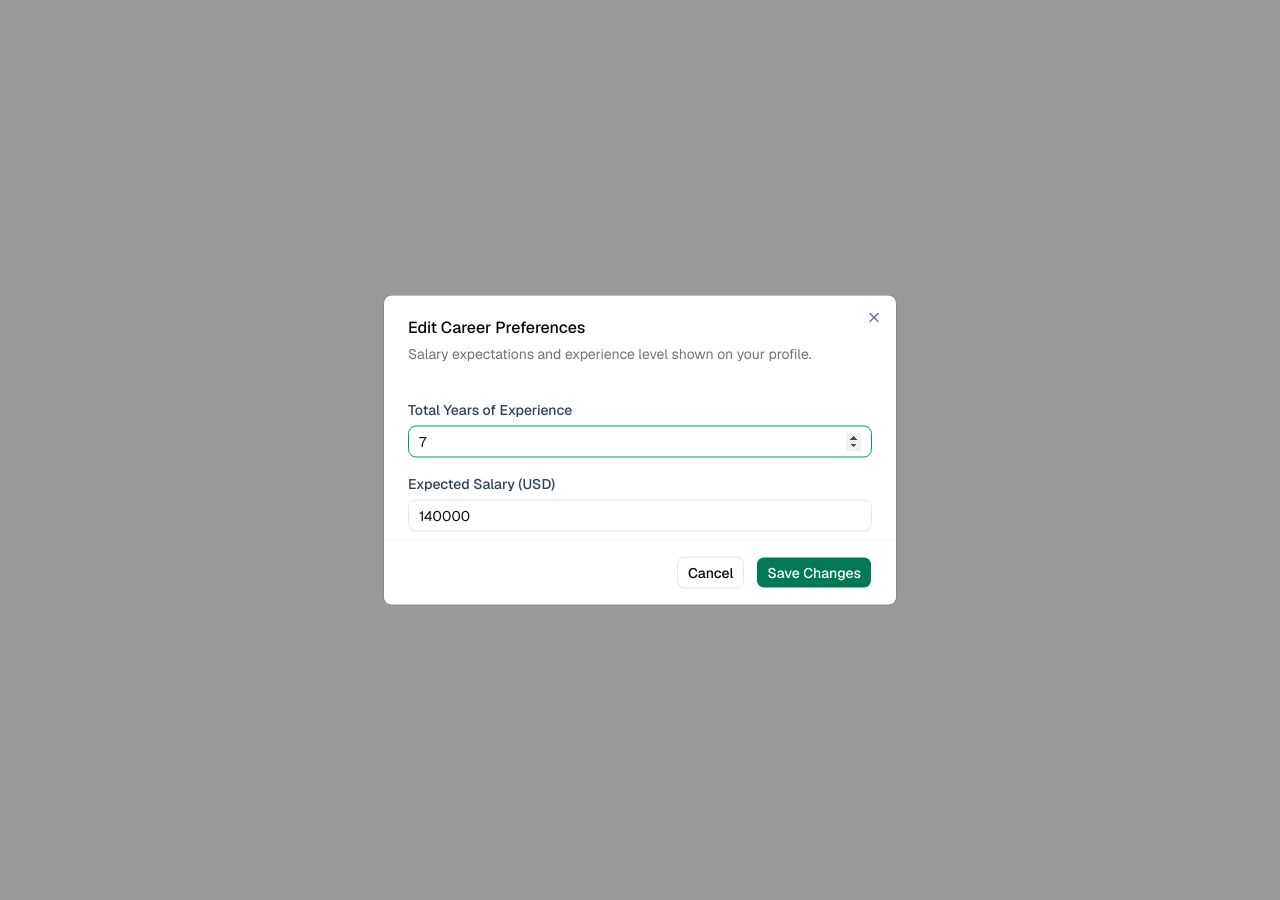
EditCareerPreferencesDialog › prevents entering negative values
The width and height of the screenshot is (1280, 900).
Replace the text in the number field labelled "Total Years of Experience" with "-5" at (640, 442), box [408,426,872,458]
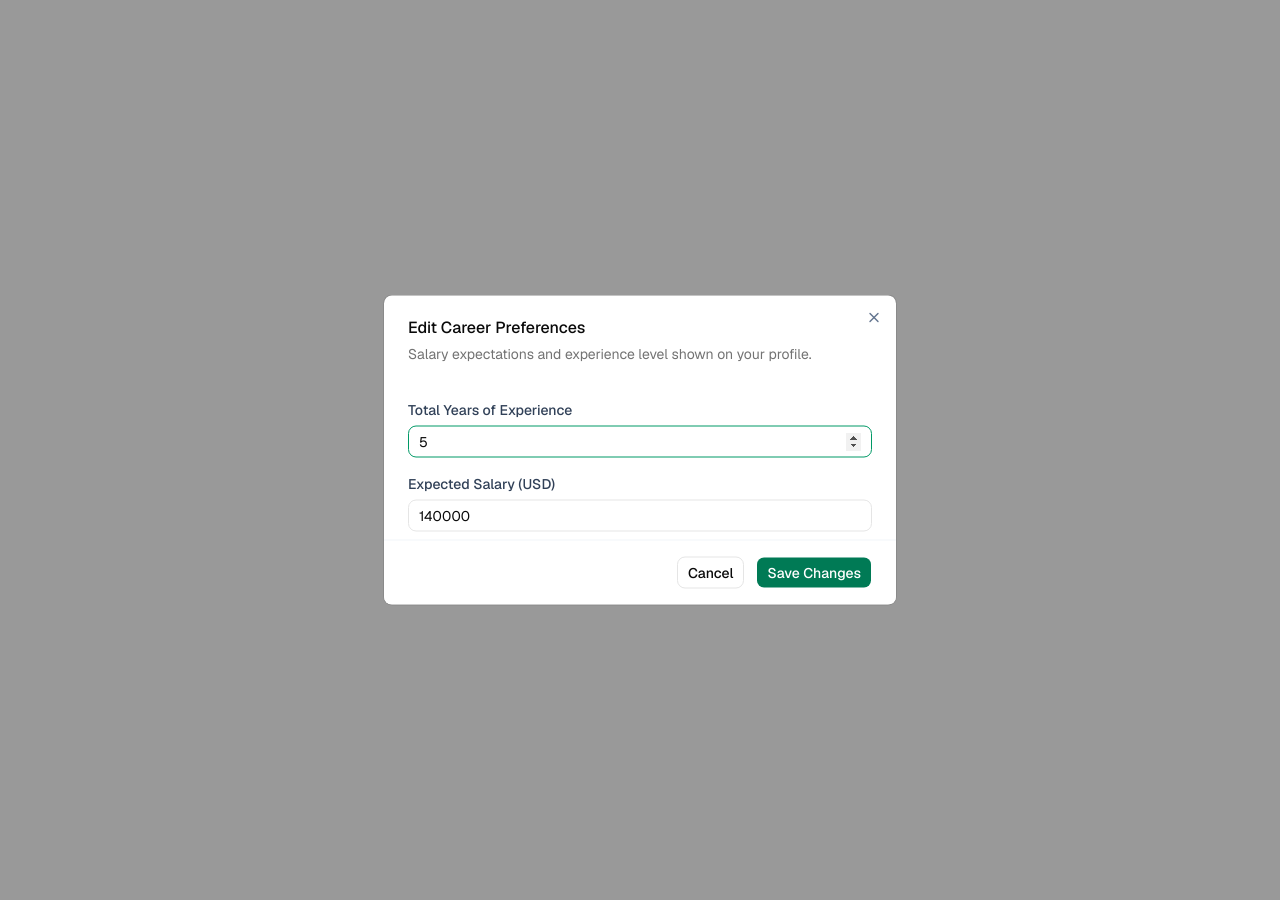
Expected: the number field labelled "Total Years of Experience" holds "5", [408,426,872,458]
